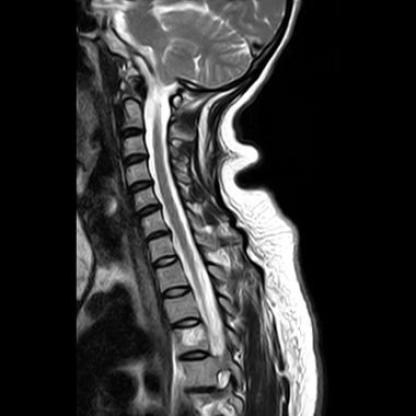Degenerative Disc Diseaserotation: (141, 228, 171, 243)
